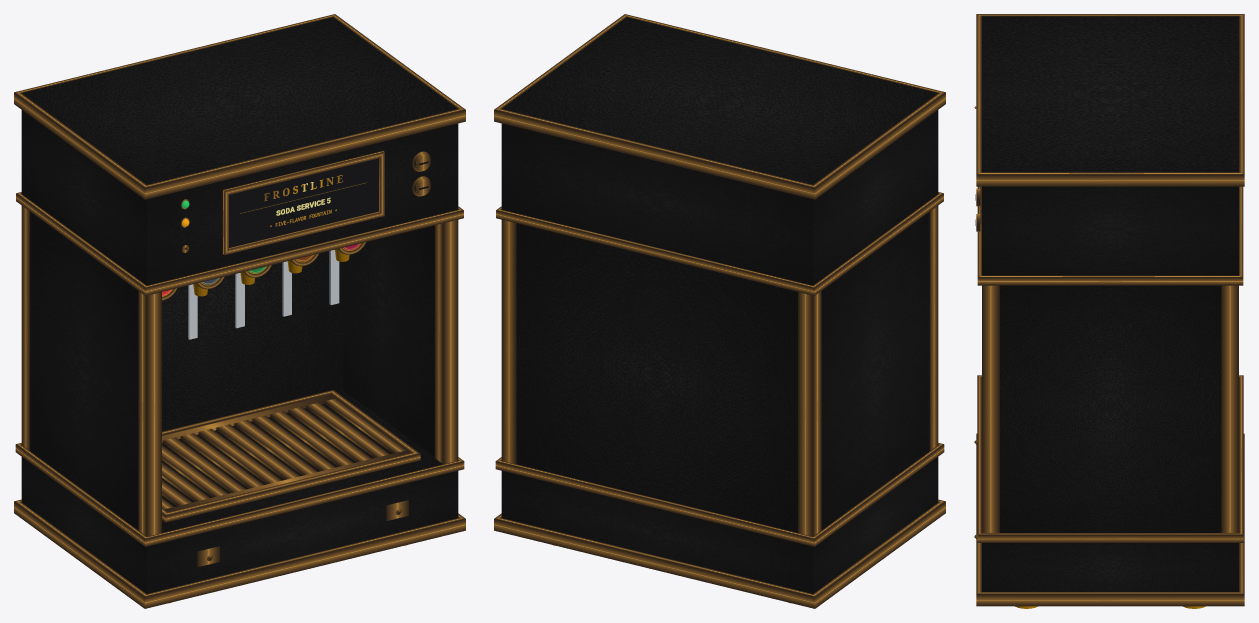
Rendered from soda_fountain.glb.
3 renders of one model, left to right at view 1: azimuth 30°, elevation 25°; view 2: azimuth 150°, elevation 25°; view 3: azimuth 270°, elevation 25°, orthographic. The views are drawn at different scales.
Visible parts, largest first — view 1: Soda_Fountain_Showcase_Group; view 2: Soda_Fountain_Showcase_Group; view 3: Soda_Fountain_Showcase_Group.
Boxes of the visible parts, x1,y1,x2,y2 form: Soda_Fountain_Showcase_Group: (14,14,465,608); Soda_Fountain_Showcase_Group: (494,14,945,608); Soda_Fountain_Showcase_Group: (974,14,1244,608).
Bounding box in the file's own units: 0.68 × 0.887 × 0.4837.
Materials: 15 (9 with a texture image).
